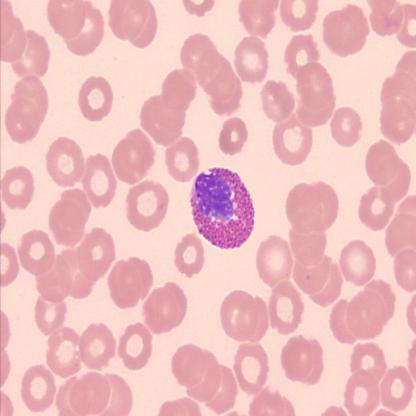Eosinophil: (191, 167, 253, 247)
